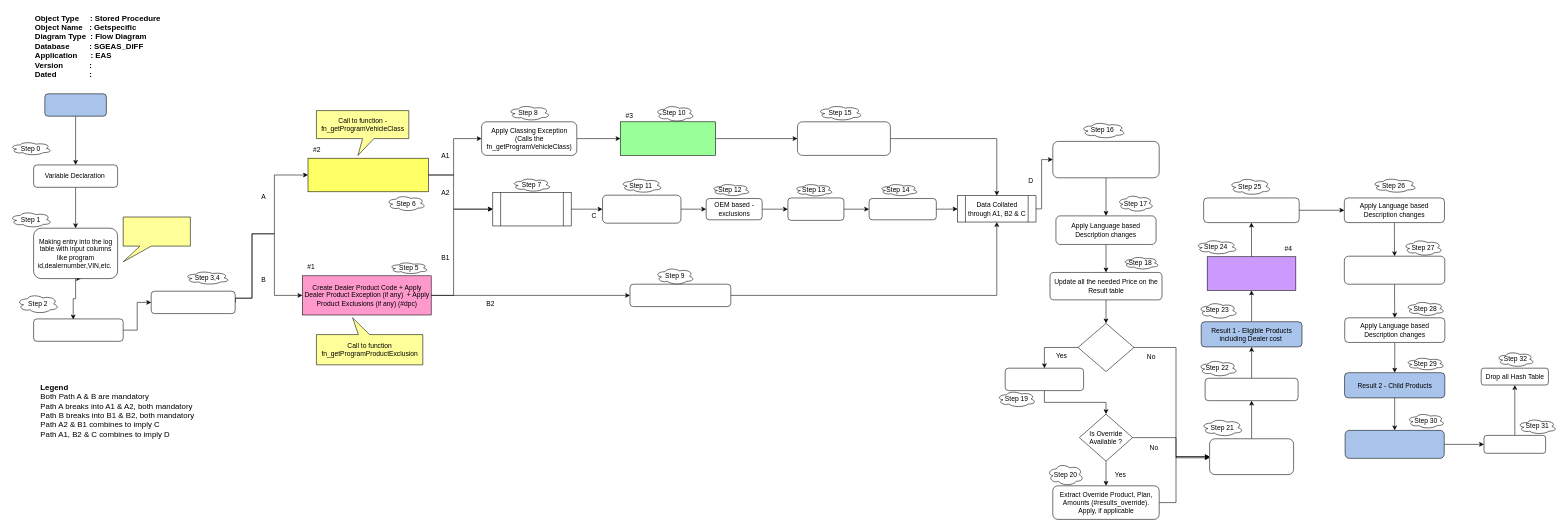
Some shapes in this 1567 by 529 pixel diagram are drawn without their labels. Here are the shapes that lost their labels. From the top down, the centre of each, then its label:
At (75,104): "Request".
At (668,138): "Extract Applicable Price Parameter (#price_parameter) + Validate Price Parameter".
At (843,138): "Extract applicable Price Header & Version (#result_pps, #result_ppsph".
At (367,175): "Lookup ID for VIN Atrributes + Warranty Parameters from VIN Details".
At (1105,159): "Result table from Header, Version & Applicable Rate System".
At (531,209): "Data Collated through A2 & B1".
At (641,209): "Get only eligible Product Plan SKU (#product_plan_SKU)".
At (815,208): "Apply Special Exclusions".
At (902,209): "Apply Power Train based Exclusions".
At (1251,210): "Extract Child Plans - Multi Coverage Products".
At (156,239): "Call to function fn_getISDByProgram".
At (1251,273): "Collate the Surcharge Price (if applicable) (#sc)".
At (1394,270): "Extract Surcharge Plans for VSC Plans (#results_surcharges_01)".
At (193,302): "Initialization - Variables & Hash Tables".
At (680,295): "Applicable Rate System (#rsa)".
At (78,329): "VIN Decode / Make, Model, Trim Decode".
At (1105,347): "If CFC Dealer ?".
At (1044,379): "Apply CFC Exception Price".
At (1251,389): "Split Term for Specific Vendor UI requirements".
At (1251,456): "Final Price (with CFC Exception / Commission applied)".
At (1394,444): "Result 3 - Surcharge Products with costs".
At (1514,444): "Log Entries".
